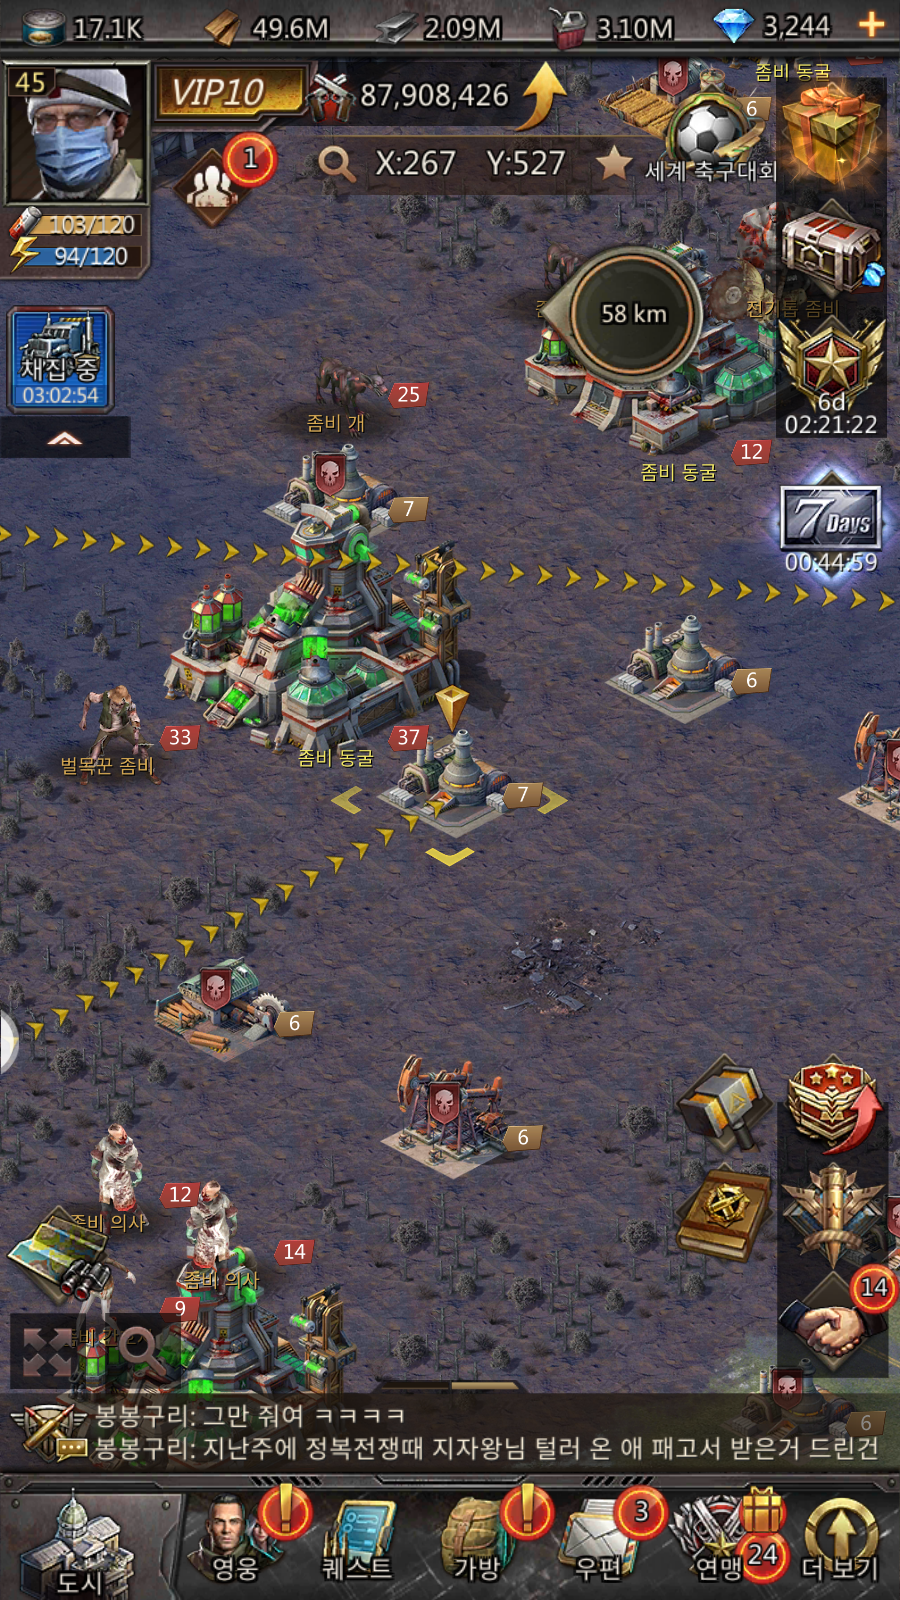city: (9, 1484, 178, 1600)
occupied_steel: (318, 667, 582, 882)
open_panel: (87, 1300, 196, 1405)
troops_cnt_1: (160, 115, 293, 235)
